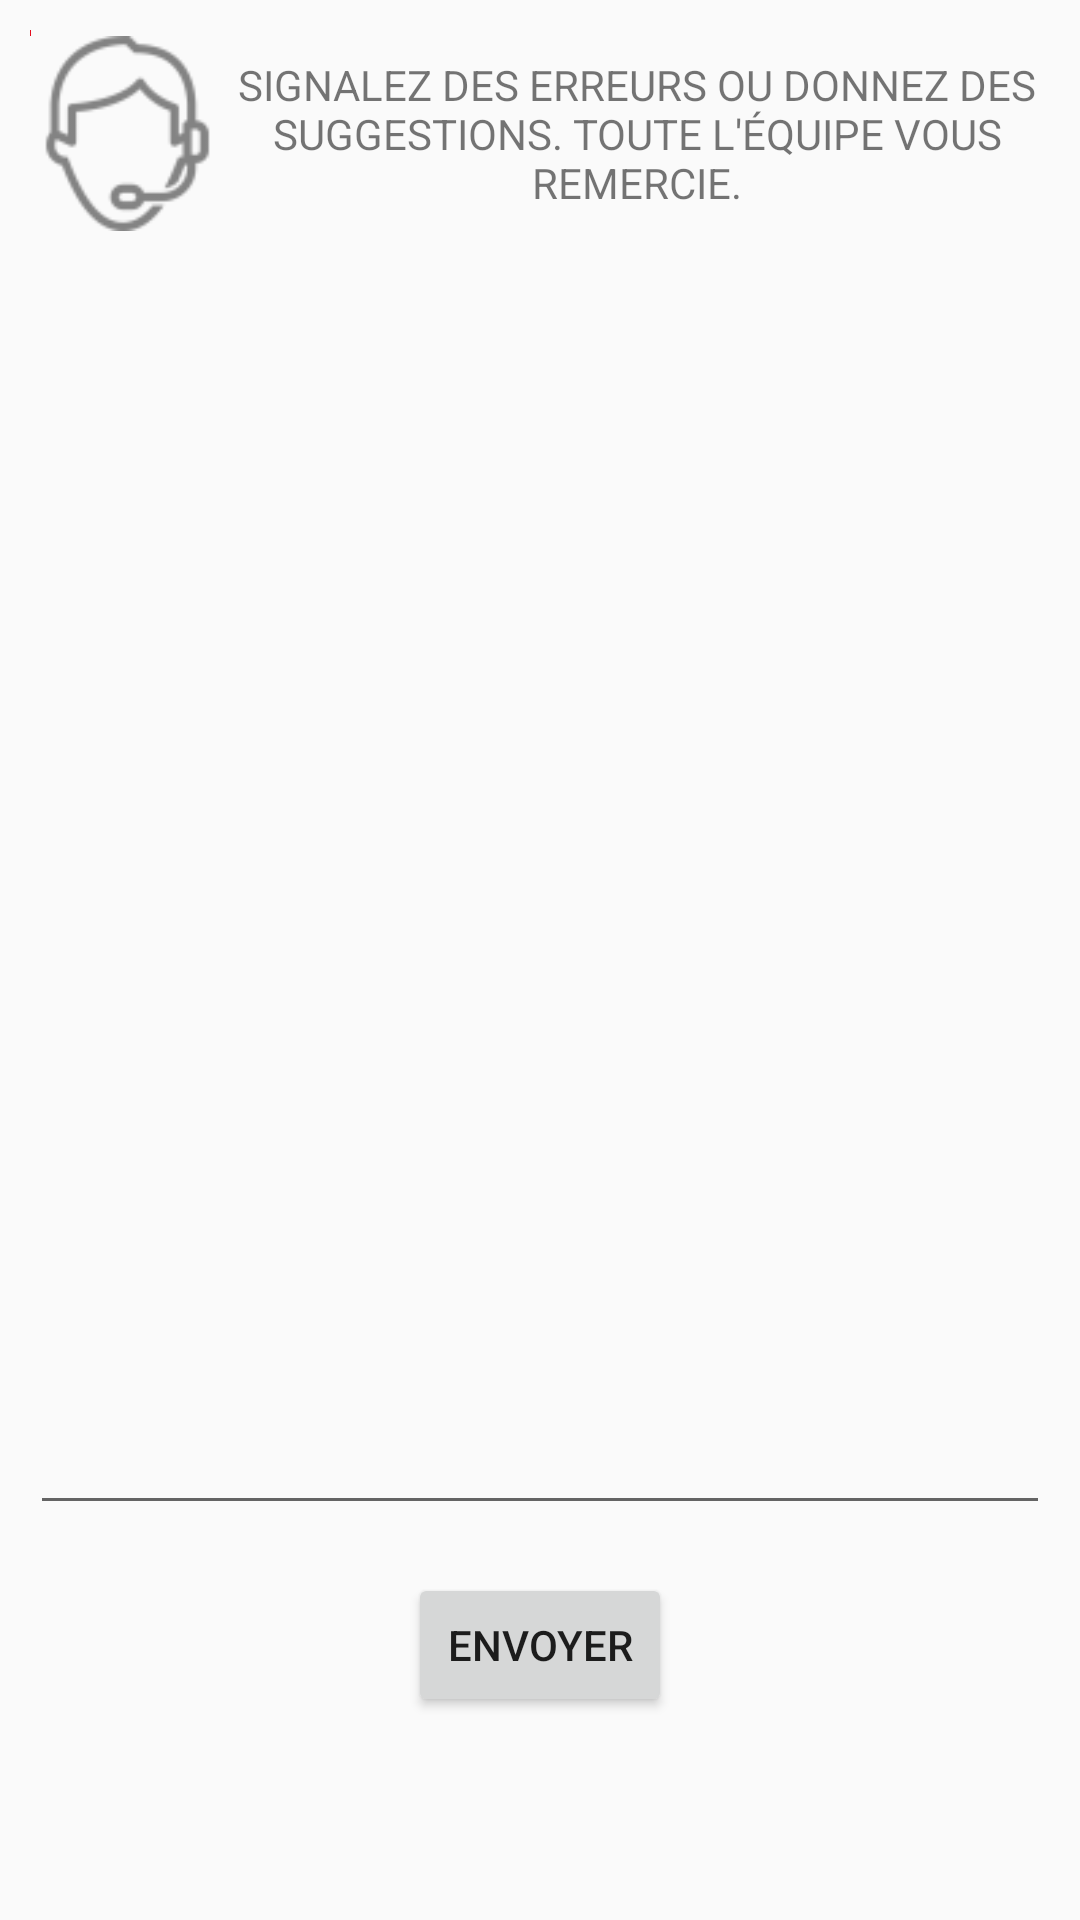

Where to tap for icons on this 1080px x 1920px app screen, as (x=x, y=y):
support: (x=120, y=130)
